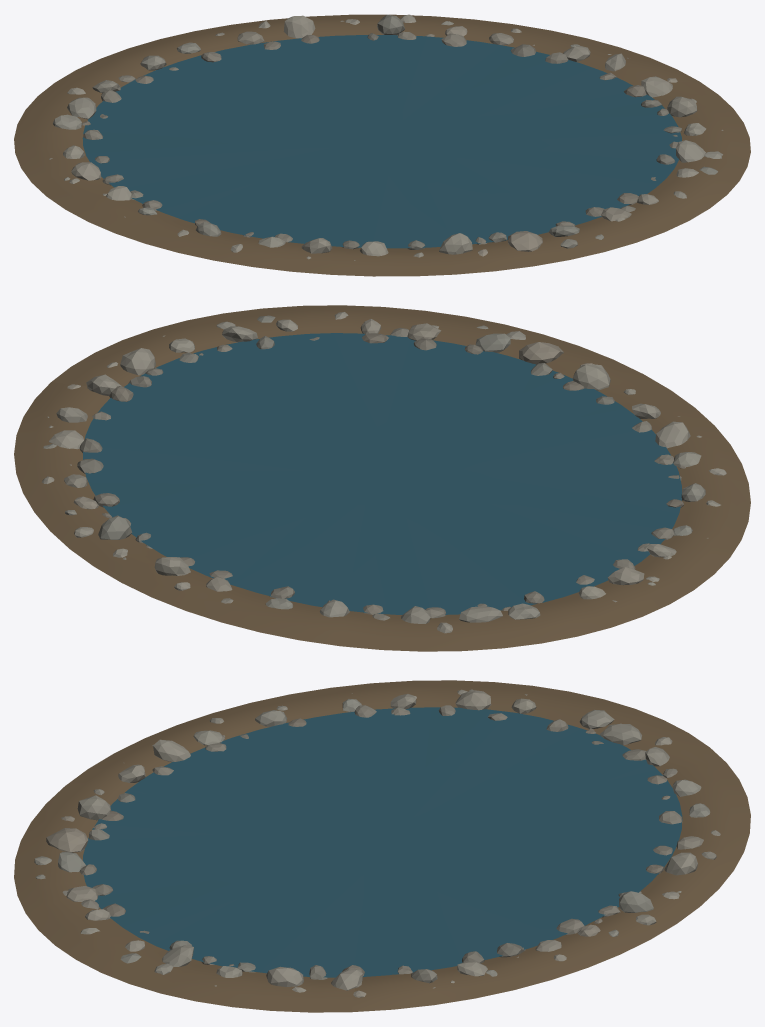
Rendered from toaster_pond.glb.
3 renders of one model, top to bottom at view 1: azimuth 30°, elevation 25°; view 2: azimuth 150°, elevation 25°; view 3: azimuth 270°, elevation 25°, orthographic. The views are drawn at different scales.
Visible parts, largest first — view 1: pond_water, pond_shelf, pond_rocks, pond_rocks_wet; view 2: pond_water, pond_shelf, pond_rocks, pond_rocks_wet; view 3: pond_water, pond_shelf, pond_rocks, pond_rocks_wet.
Part boxes in pixels (left/top/right/bottom): pond_water: left=82, top=35, right=681, bottom=248; pond_shelf: left=14, top=14, right=750, bottom=276; pond_rocks: left=49, top=14, right=723, bottom=260; pond_rocks_wet: left=82, top=31, right=681, bottom=249; pond_water: left=83, top=333, right=681, bottom=614; pond_shelf: left=14, top=305, right=750, bottom=651; pond_rocks: left=42, top=312, right=726, bottom=633; pond_rocks_wet: left=77, top=327, right=685, bottom=620; pond_water: left=83, top=707, right=682, bottom=977; pond_shelf: left=14, top=680, right=750, bottom=1012; pond_rocks: left=34, top=689, right=720, bottom=997; pond_rocks_wet: left=79, top=705, right=682, bottom=979.
Bounding box in the file's own units: 35.81 × 1.57 × 33.57.
